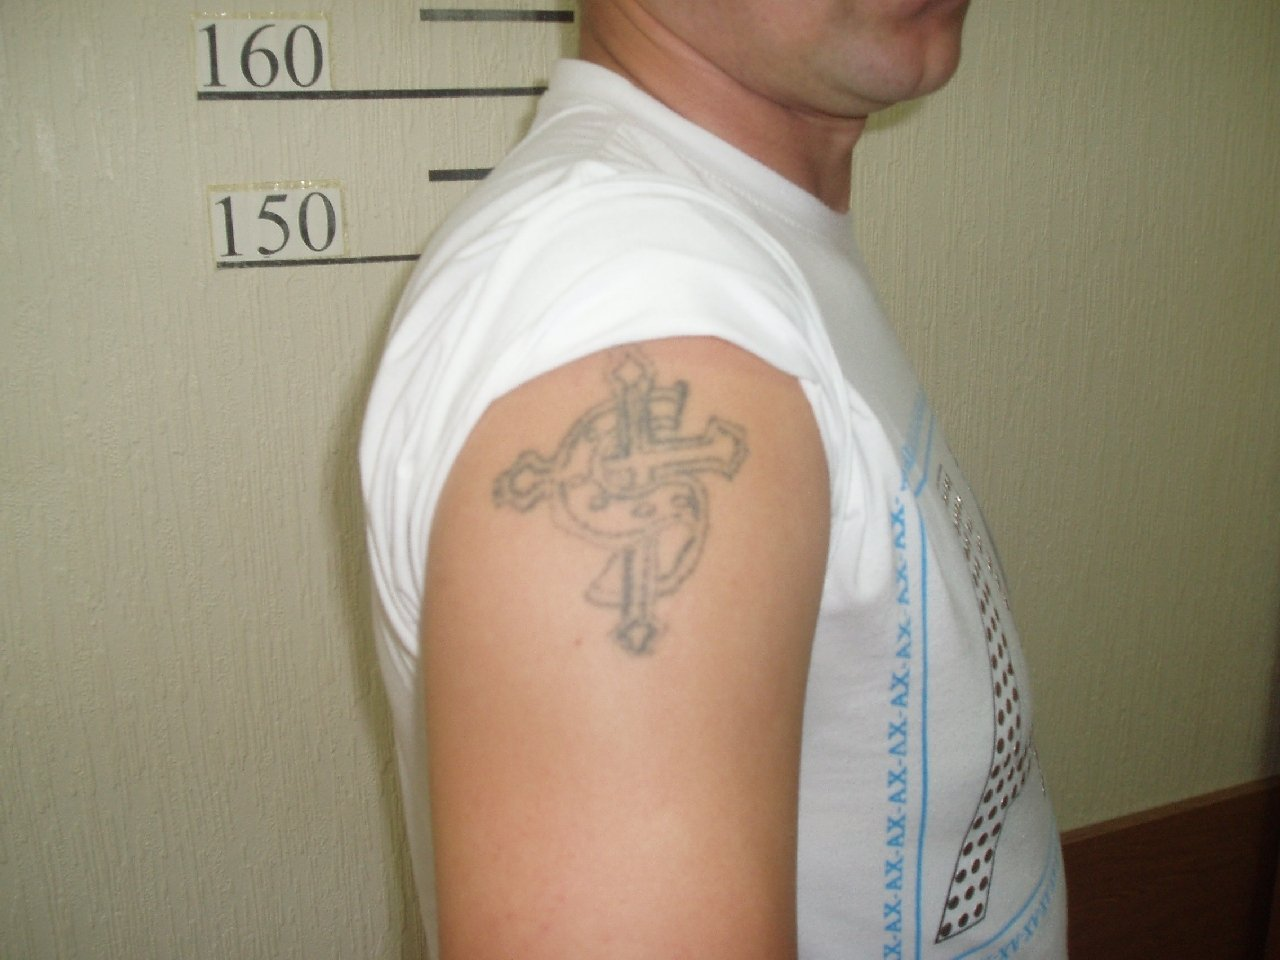tatu9_krest: (519, 378, 764, 674)
